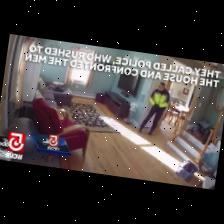person: (139, 83, 169, 135)
